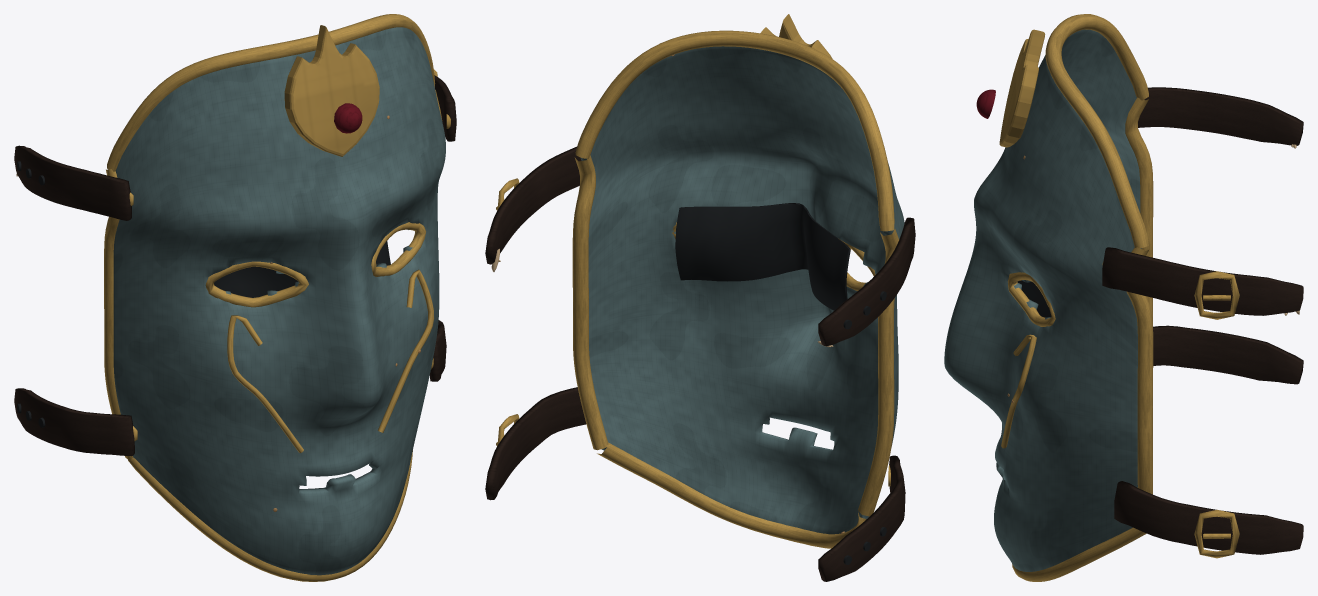
3 renders of one model, left to right at view 1: azimuth 30°, elevation 25°; view 2: azimuth 150°, elevation 25°; view 3: azimuth 270°, elevation 25°, orthographic. The views are drawn at different scales.
Parts seen in each view (by area): view 1: blued scale plate, gilded alloy, oiled strap leather, recess and lining, polished cabochon stone; view 2: blued scale plate, gilded alloy, oiled strap leather, recess and lining; view 3: blued scale plate, oiled strap leather, gilded alloy, recess and lining.
Part boxes in pixels (bbox=[...]): blued scale plate: bbox=[113, 27, 445, 575]; gilded alloy: bbox=[104, 14, 450, 581]; oiled strap leather: bbox=[14, 75, 456, 456]; recess and lining: bbox=[17, 161, 390, 427]; polished cabochon stone: bbox=[334, 103, 362, 133]; blued scale plate: bbox=[580, 46, 904, 534]; gilded alloy: bbox=[496, 14, 898, 548]; oiled strap leather: bbox=[485, 146, 915, 581]; recess and lining: bbox=[675, 203, 886, 564]; blued scale plate: bbox=[944, 29, 1141, 571]; oiled strap leather: bbox=[1102, 87, 1303, 554]; gilded alloy: bbox=[999, 14, 1239, 581]; recess and lining: bbox=[1017, 280, 1051, 317].
Size of the model in its own units: 0.1781 by 0.2371 by 0.1435.
Materials: 7 (4 with a texture image).
